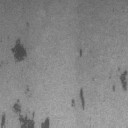red iron: (13, 99, 34, 128), (12, 38, 26, 62), (120, 70, 128, 91), (80, 88, 85, 110), (42, 117, 50, 128), (1, 112, 6, 128), (78, 48, 83, 58), (25, 85, 30, 94), (71, 99, 76, 107), (112, 85, 116, 92)
